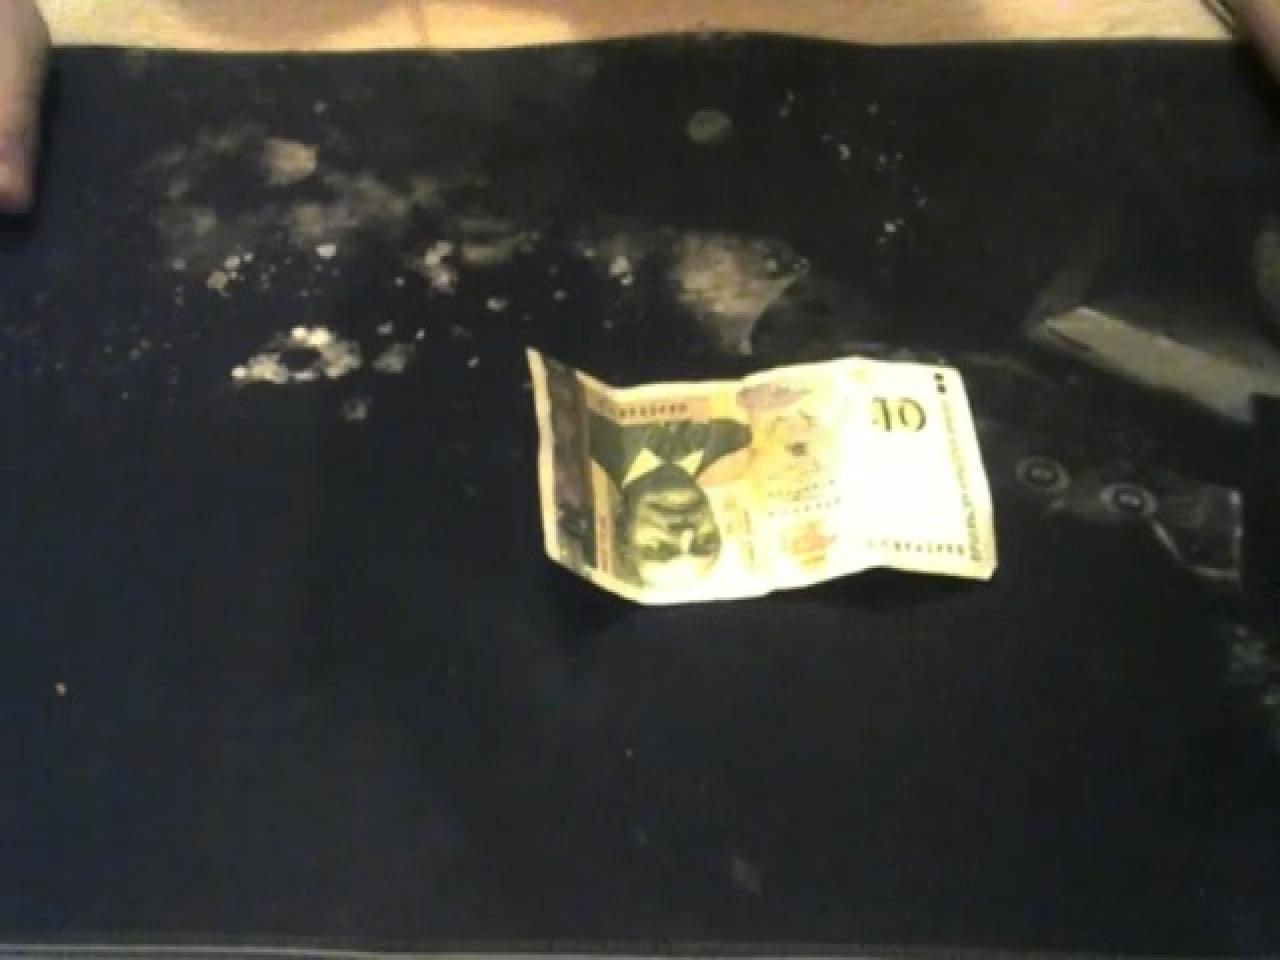10leva: (568, 403, 753, 593), (854, 386, 946, 459)
